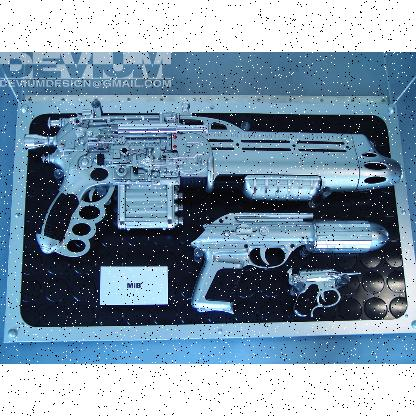gun: (22, 99, 402, 257), (190, 212, 390, 315), (286, 268, 360, 314)
